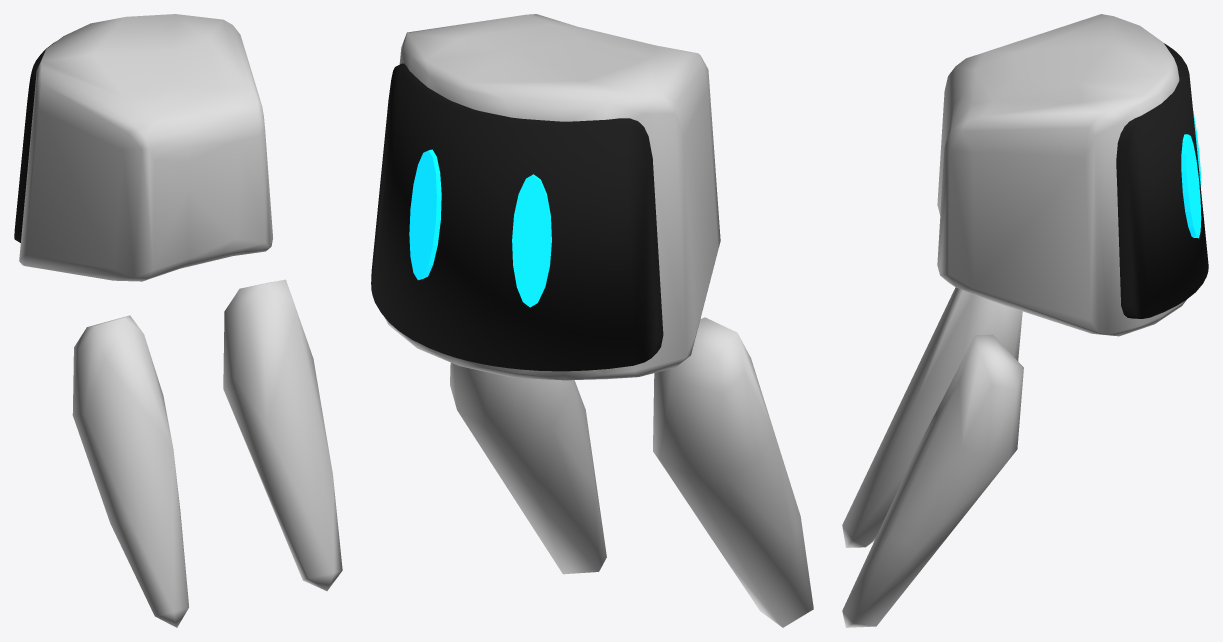
File: worker.glb
3 views of the same model, side by side, from view 1: azimuth 30°, elevation 25°; view 2: azimuth 150°, elevation 25°; view 3: azimuth 270°, elevation 25° (orthographic). The views are drawn at different scales.
Parts seen in each view (by area): view 1: Case, Feet, Face; view 2: Face, Feet, Case, Eyes; view 3: Case, Feet, Face, Eyes.
Part boxes in pixels (x1,y1,x2,y2): Case: (19, 14, 272, 281); Feet: (72, 279, 342, 627); Face: (14, 42, 54, 242); Face: (371, 63, 663, 371); Feet: (450, 317, 813, 627); Case: (384, 14, 720, 380); Eyes: (409, 149, 551, 307); Case: (937, 14, 1186, 336); Feet: (842, 287, 1023, 627); Face: (1116, 43, 1208, 318); Eyes: (1181, 110, 1201, 238).
Bounding box in the file's own units: 1.14 × 2.29 × 1.44.
